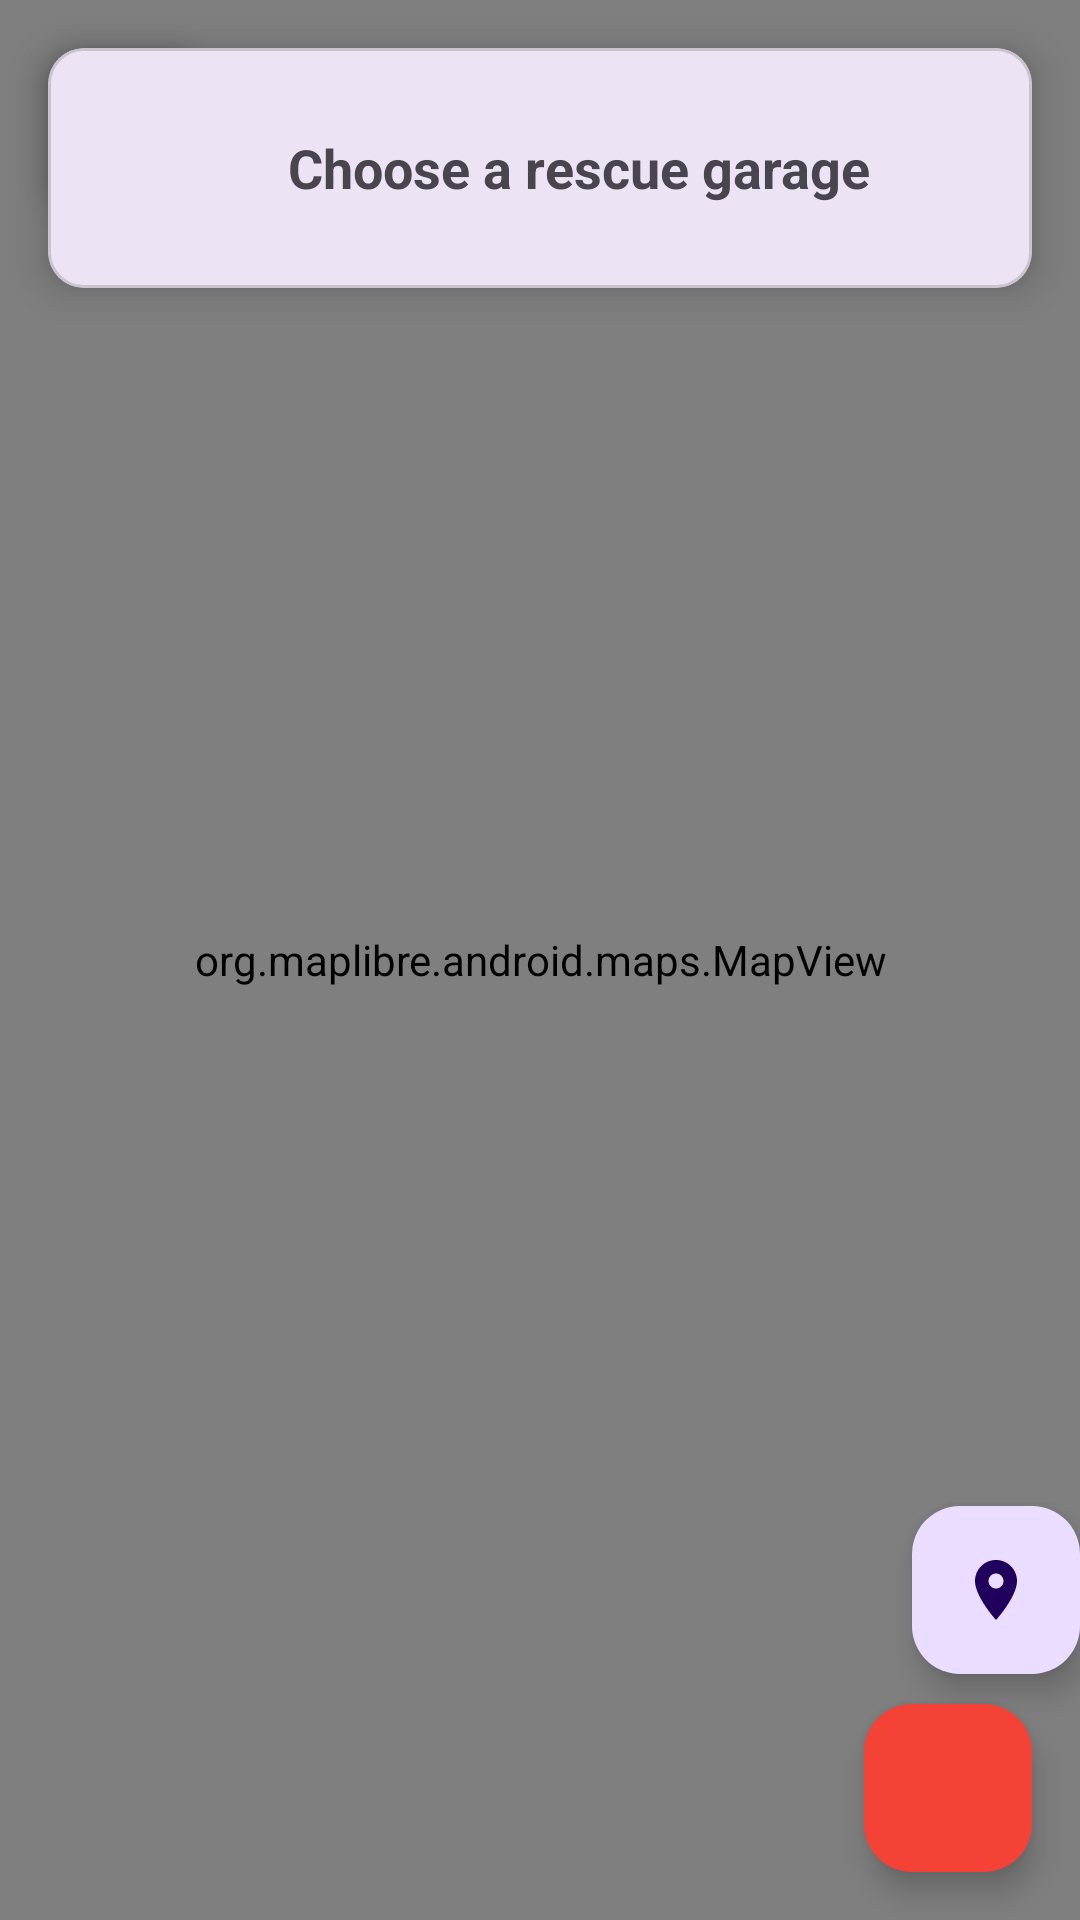

Icon click points for this 1080×1920 phone screenshot, format point (x, y):
Current Location: point (996, 1590)
